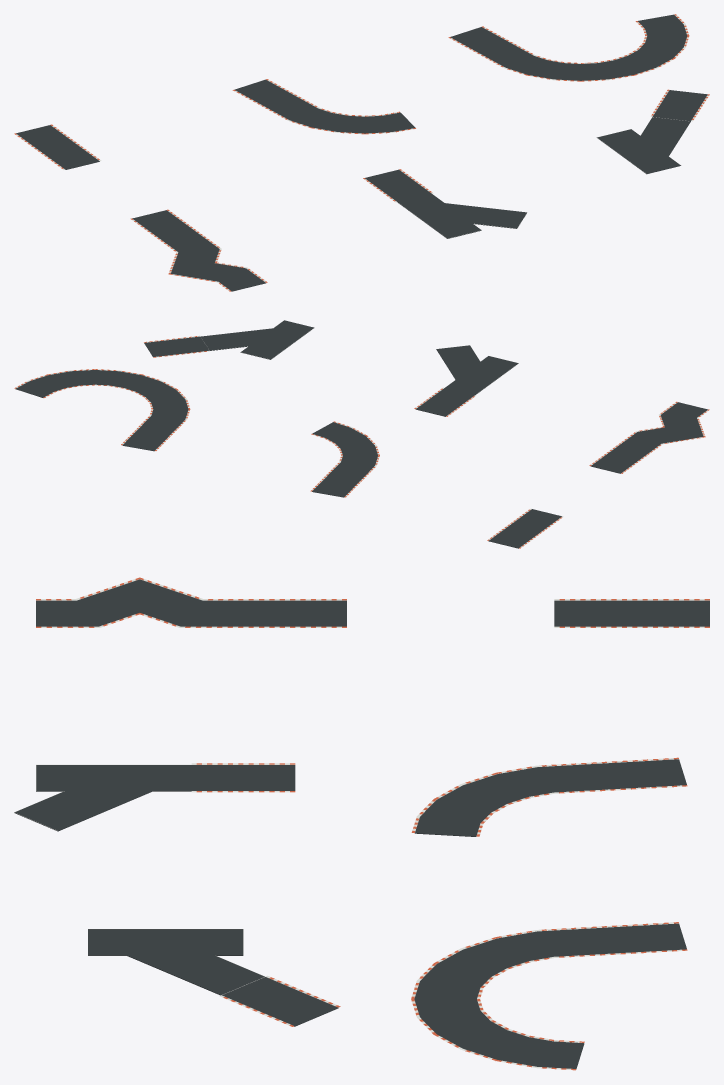
The model's file is grand-prix-circuit-and-open-wheel-gp-connector-cases-77f2cc68__15254.glb.
The picture shows the model from 3 angles, top to bottom: view 1: azimuth 30°, elevation 25°; view 2: azimuth 150°, elevation 25°; view 3: azimuth 270°, elevation 25°; orthographic projection. The views are drawn at different scales.
Parts seen in each view (by area): view 1: 004-hairpin-180/2, 008-pit-entry/0, 010-pit-exit/0, 006-chicane-left-right/2, 002-corner-90/2, 003-straight-20m/2, 005-straight-20m/2, 007-straight-20m/2, 009-straight-20m/2, 001-straight-20m/2, 011-straight-20m/2, 000-straight-10m/2 (+1 smaller); view 2: 004-hairpin-180/2, 010-pit-exit/0, 008-pit-entry/0, 006-chicane-left-right/2, 002-corner-90/2, 001-straight-20m/2, 009-straight-20m/2, 007-straight-20m/2, 011-straight-20m/2, 003-straight-20m/2, 005-straight-20m/2, 000-straight-10m/2 (+1 smaller); view 3: 004-hairpin-180/2, 008-pit-entry/0, 010-pit-exit/0, 006-chicane-left-right/2, 002-corner-90/2, 001-straight-20m/2, 007-straight-20m/2, 011-straight-20m/2, 003-straight-20m/2, 005-straight-20m/2, 009-straight-20m/2, 000-straight-10m/2 (+2 smaller).
Boxes of the visible parts, x1=… form: 004-hairpin-180/2: x1=491, y1=14, x2=686, y2=80; 008-pit-entry/0: x1=398, y1=194, x2=526, y2=238; 010-pit-exit/0: x1=597, y1=117, x2=690, y2=174; 006-chicane-left-right/2: x1=165, y1=234, x2=265, y2=291; 002-corner-90/2: x1=275, y1=102, x2=415, y2=133; 003-straight-20m/2: x1=234, y1=79, x2=305, y2=111; 005-straight-20m/2: x1=450, y1=27, x2=521, y2=59; 007-straight-20m/2: x1=132, y1=210, x2=199, y2=242; 009-straight-20m/2: x1=365, y1=169, x2=431, y2=202; 001-straight-20m/2: x1=16, y1=125, x2=82, y2=157; 011-straight-20m/2: x1=652, y1=90, x2=707, y2=121; 000-straight-10m/2: x1=49, y1=149, x2=99, y2=169; 004-hairpin-180/2: x1=15, y1=370, x2=188, y2=428; 010-pit-exit/0: x1=201, y1=320, x2=314, y2=359; 008-pit-entry/0: x1=436, y1=345, x2=518, y2=395; 006-chicane-left-right/2: x1=620, y1=402, x2=707, y2=451; 002-corner-90/2: x1=312, y1=422, x2=377, y2=474; 001-straight-20m/2: x1=488, y1=519, x2=547, y2=548; 009-straight-20m/2: x1=415, y1=388, x2=474, y2=416; 007-straight-20m/2: x1=590, y1=445, x2=649, y2=473; 011-straight-20m/2: x1=144, y1=336, x2=208, y2=356; 003-straight-20m/2: x1=312, y1=469, x2=365, y2=497; 005-straight-20m/2: x1=122, y1=422, x2=176, y2=451; 000-straight-10m/2: x1=518, y1=509, x2=561, y2=526; 004-hairpin-180/2: x1=414, y1=929, x2=584, y2=1068; 008-pit-entry/0: x1=14, y1=765, x2=191, y2=831; 010-pit-exit/0: x1=88, y1=929, x2=264, y2=995; 006-chicane-left-right/2: x1=36, y1=579, x2=243, y2=626; 002-corner-90/2: x1=415, y1=765, x2=584, y2=836; 001-straight-20m/2: x1=606, y1=600, x2=709, y2=626; 007-straight-20m/2: x1=243, y1=600, x2=346, y2=626; 011-straight-20m/2: x1=222, y1=977, x2=338, y2=1026; 003-straight-20m/2: x1=576, y1=759, x2=686, y2=790; 005-straight-20m/2: x1=576, y1=923, x2=686, y2=954; 009-straight-20m/2: x1=191, y1=765, x2=295, y2=790; 000-straight-10m/2: x1=554, y1=600, x2=606, y2=626.
Bounding box in the file's own units: 225 × 0.147 × 134.
